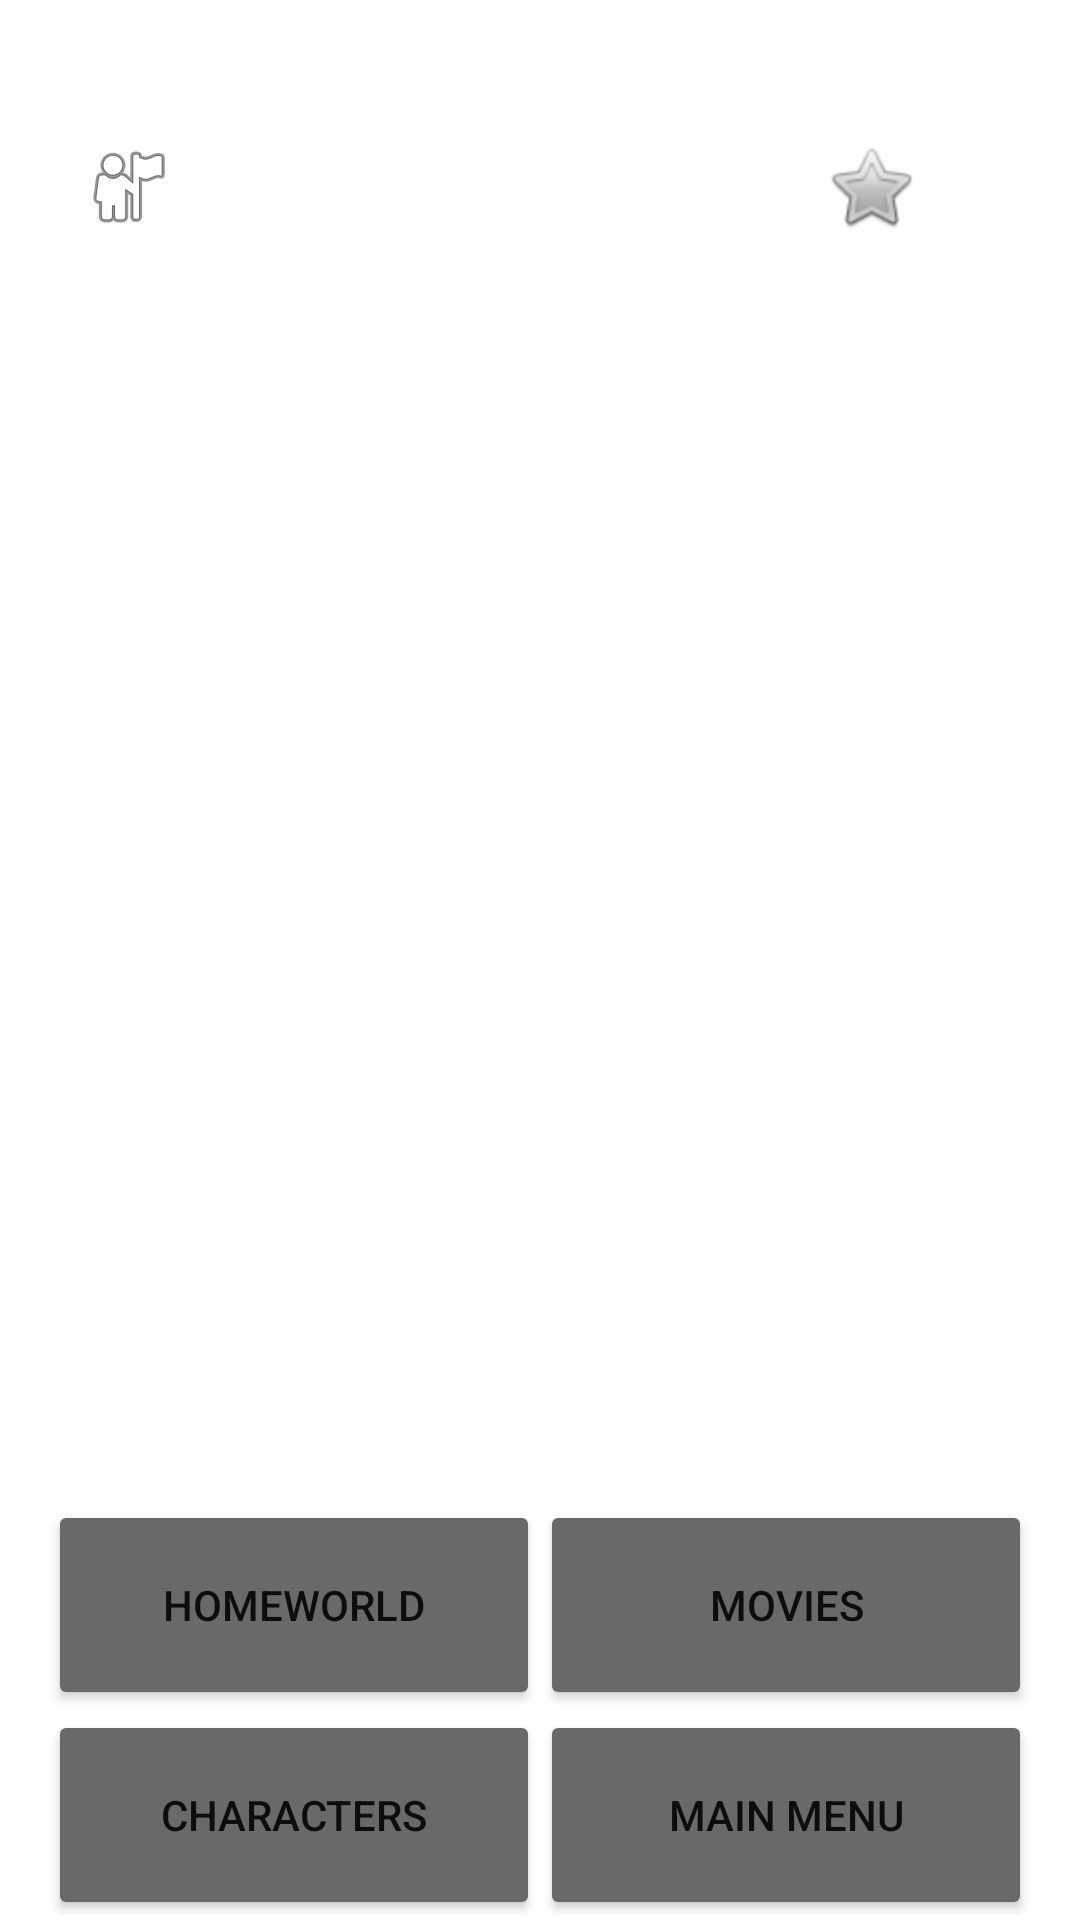

Locate icon controls on the screen. Image size 1080w x 1920h, boxes as (x1, y1, x2, y2).
myplaces: (93, 151, 165, 223)
star off: (832, 149, 912, 227)
